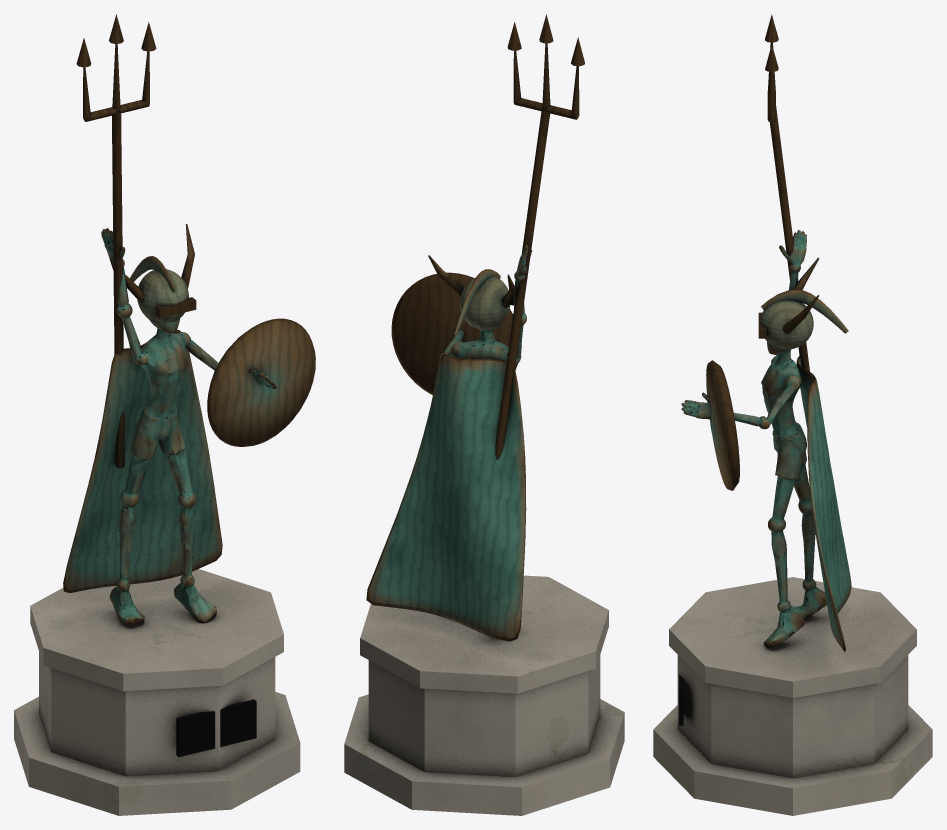
Rendered from cenario_estatua_guardiao.glb.
3 renders of one model, left to right at view 1: azimuth 30°, elevation 25°; view 2: azimuth 150°, elevation 25°; view 3: azimuth 270°, elevation 25°, orthographic. The views are drawn at different scales.
Visible parts, largest first — view 1: cenario_estatua_guardiao; view 2: cenario_estatua_guardiao; view 3: cenario_estatua_guardiao.
Part boxes in pixels (box(x1,y1,x2,y2)): cenario_estatua_guardiao: box(14, 14, 315, 815); cenario_estatua_guardiao: box(344, 14, 624, 815); cenario_estatua_guardiao: box(653, 14, 932, 815).
Bounding box in the file's own units: 2.3 × 6.53 × 2.3.
Materials: 1 (1 with a texture image).
